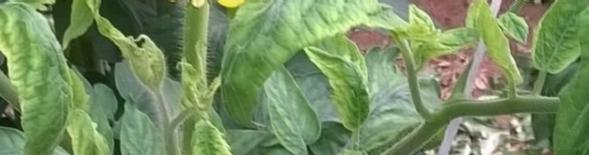Tomato leaf yellow virus: (218, 0, 380, 122), (0, 0, 83, 154)
